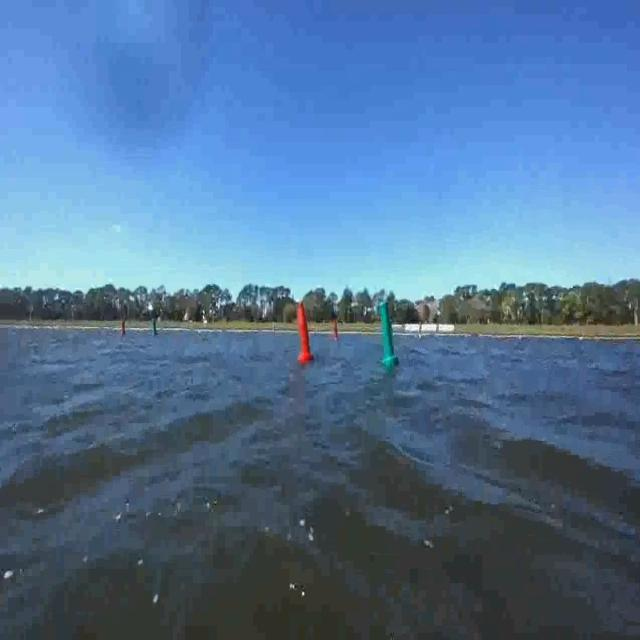green-column-buoy: (378, 302, 399, 368), (151, 315, 158, 336)
red-column-buoy: (297, 302, 315, 362), (332, 314, 341, 344), (120, 319, 126, 336)
